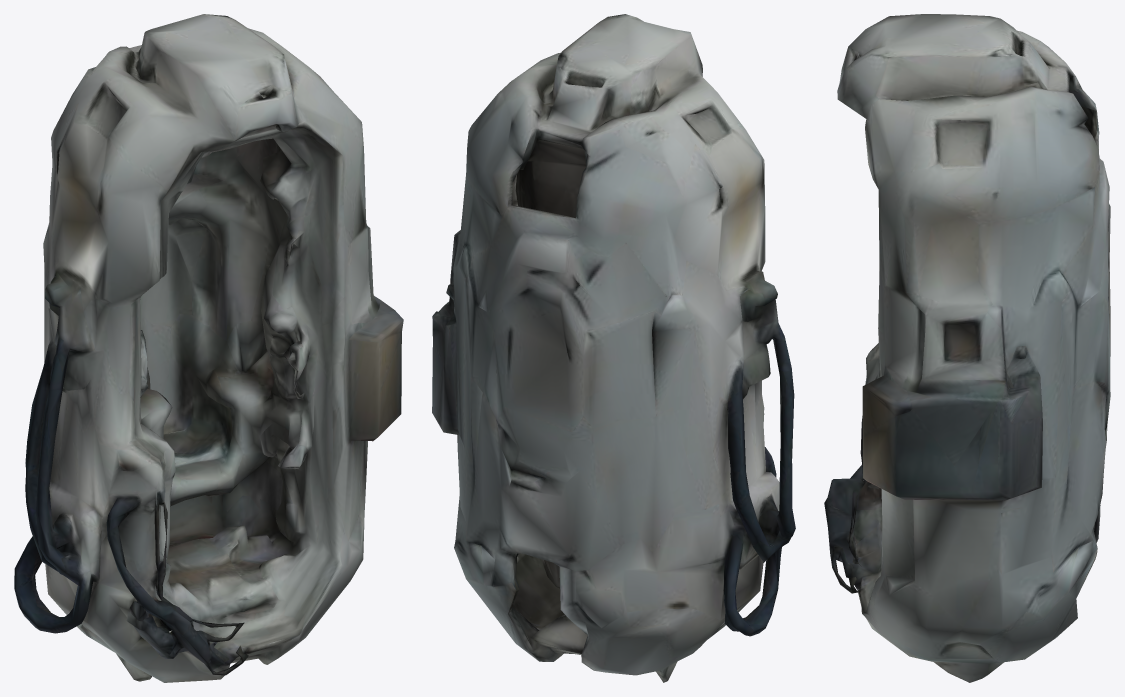
File: Meshy_AI_Breached_Containment_balanced.glb
3 views of the same model, side by side, from view 1: azimuth 30°, elevation 25°; view 2: azimuth 150°, elevation 25°; view 3: azimuth 270°, elevation 25° (orthographic). The views are drawn at different scales.
Bounding box in the file's own units: 1.12 × 2 × 0.8377.
1 material, 1 textured.
